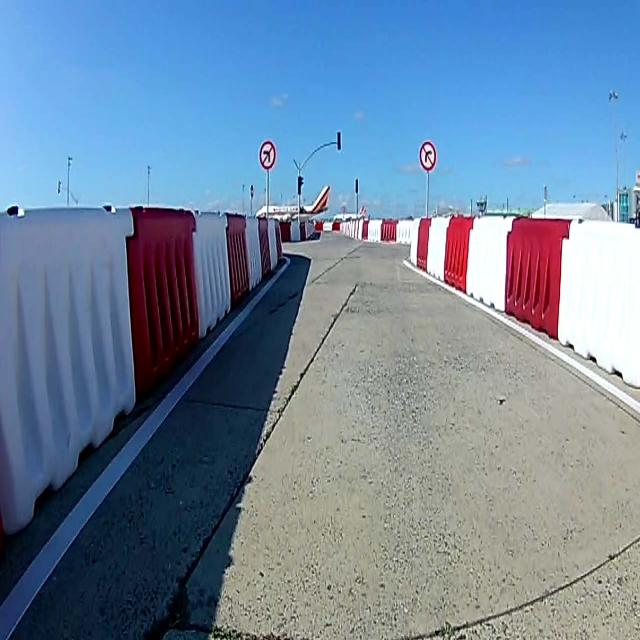sagadonulmez: (420, 142, 436, 169)
soladonulmez: (260, 139, 276, 169)
